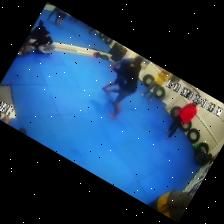person: (106, 62, 141, 119), (102, 56, 143, 90), (147, 191, 191, 221), (166, 102, 199, 139), (142, 71, 170, 101), (33, 32, 55, 55), (17, 32, 35, 56), (31, 21, 46, 39), (47, 8, 60, 24), (56, 11, 67, 27), (3, 115, 10, 124), (87, 27, 94, 34), (69, 16, 77, 22)
